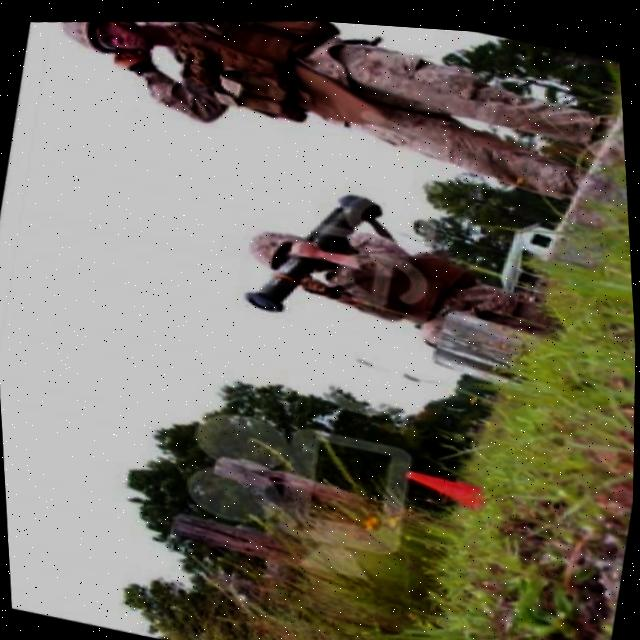rocket: (228, 160, 399, 337)
